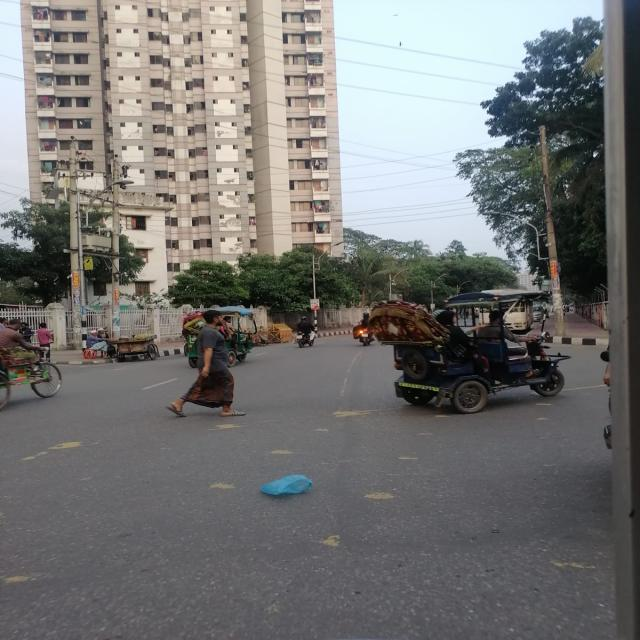person: (168, 310, 245, 417)
